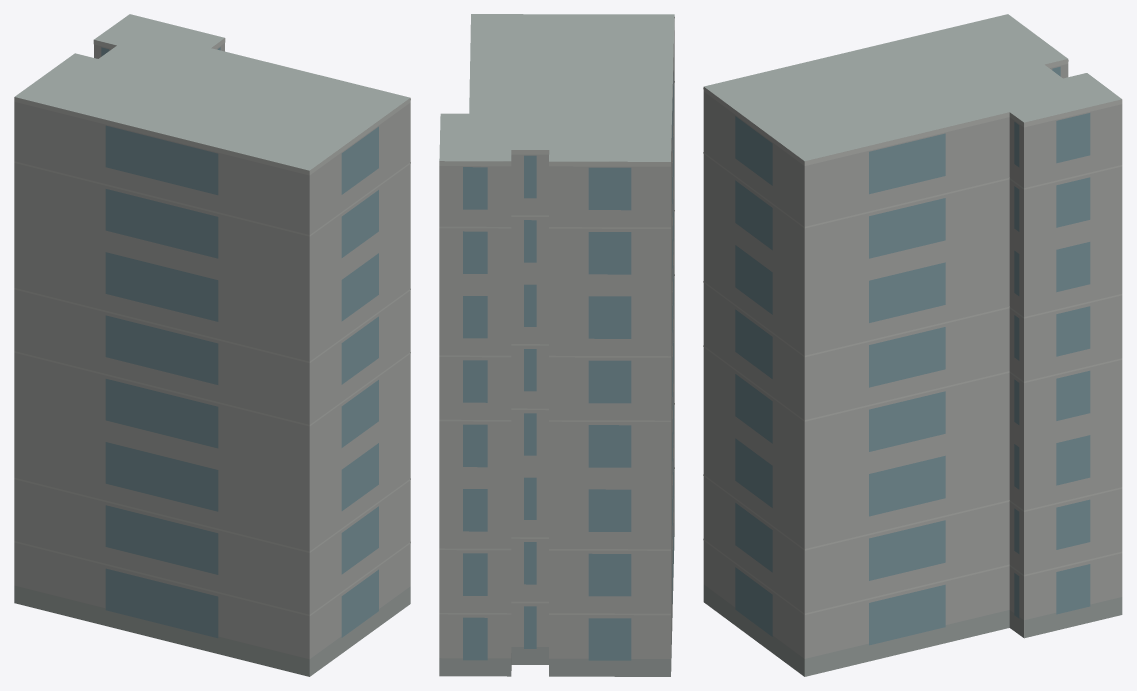
The model's file is survey-upis-32796718.glb.
3 renders of one model, left to right at view 1: azimuth 30°, elevation 25°; view 2: azimuth 150°, elevation 25°; view 3: azimuth 270°, elevation 25°, orthographic.
Parts seen in each view (by area): view 1: survey-upis-32796718.tmp; view 2: survey-upis-32796718.tmp; view 3: survey-upis-32796718.tmp.
Part boxes in pixels (<box>): survey-upis-32796718.tmp: <box>14,14,410,676</box>; survey-upis-32796718.tmp: <box>439,14,674,676</box>; survey-upis-32796718.tmp: <box>703,14,1122,676</box>.
Bounding box in the file's own units: 15.89 × 25.9 × 19.08.
